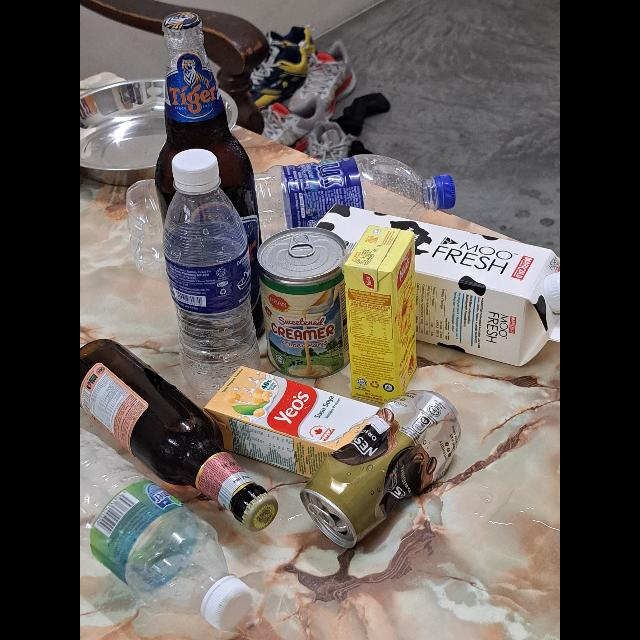aba de lata: (306, 503, 336, 527), (289, 234, 315, 258)
caixinha: (314, 202, 560, 366), (204, 367, 380, 478), (344, 225, 418, 401)
garrafa de vidro: (80, 338, 280, 530), (156, 10, 266, 344)
garrafa plástica: (80, 432, 230, 614), (162, 191, 262, 399), (252, 154, 438, 238)
lata: (300, 392, 462, 548), (256, 228, 348, 378)
tampa plástica: (203, 578, 255, 632), (171, 147, 219, 187), (439, 175, 457, 209), (546, 271, 560, 313)
